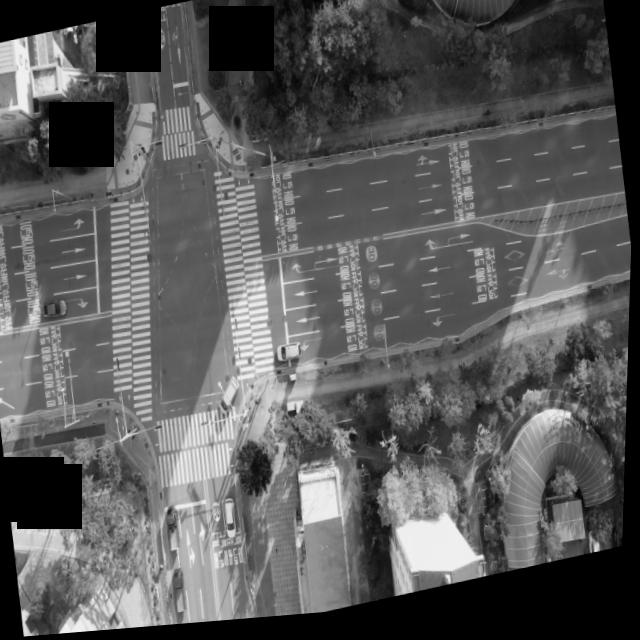car: (213, 373, 246, 422), (224, 503, 240, 541), (43, 299, 69, 322), (276, 346, 302, 366)
small_truck: (165, 504, 185, 557), (173, 565, 192, 619)
